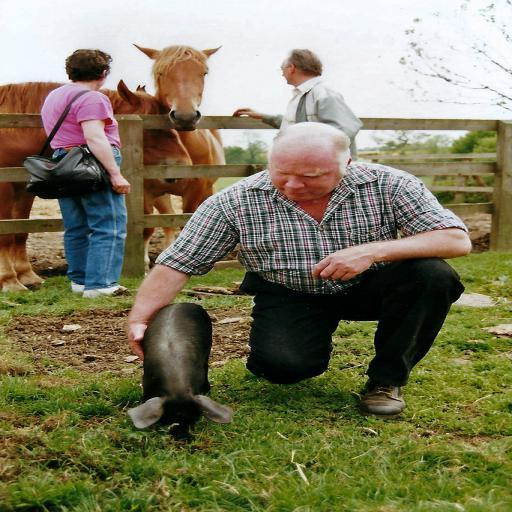horse: (0, 78, 197, 295), (132, 41, 222, 250)
